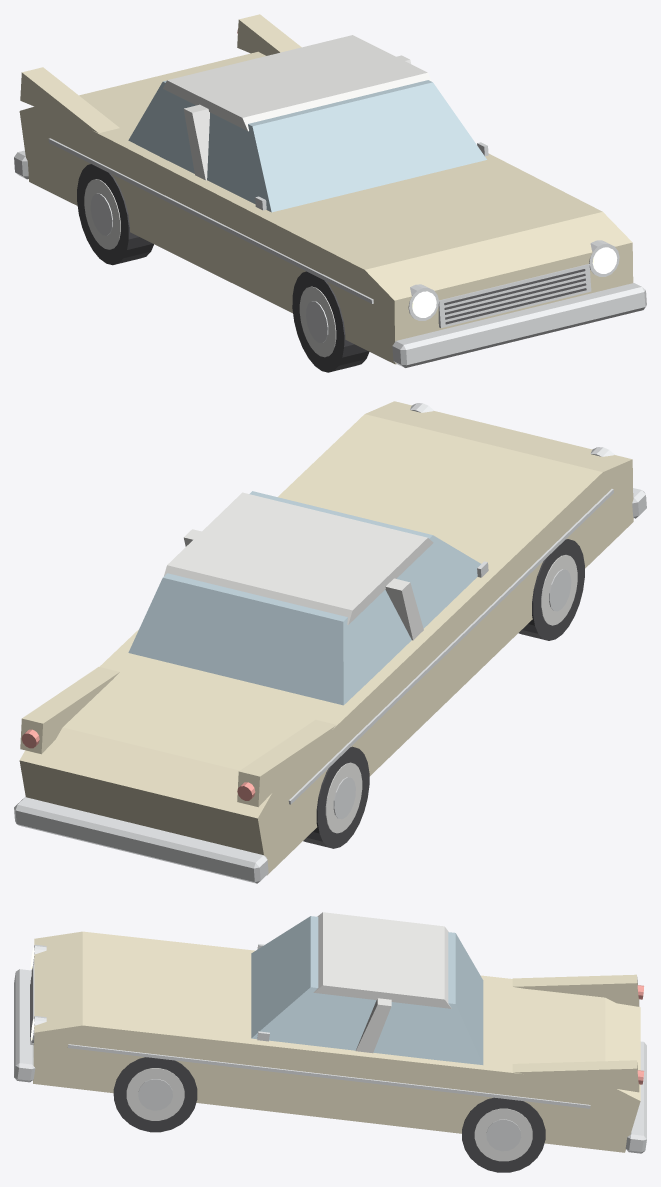
The model's file is car_c.glb.
The picture shows the model from 3 angles, top to bottom: view 1: azimuth 30°, elevation 25°; view 2: azimuth 150°, elevation 25°; view 3: azimuth 270°, elevation 25°; orthographic projection. The views are drawn at different scales.
Parts seen in each view (by area): view 1: car_c_car_c, car_c_glass, car_c_chrome, car_c_car_w, car_c_rubber, car_c_paint_w, car_c_dark, car_c_lamp_glass; view 2: car_c_car_c, car_c_glass, car_c_car_w, car_c_chrome, car_c_rubber, car_c_paint_w; view 3: car_c_car_c, car_c_glass, car_c_car_w, car_c_chrome, car_c_rubber, car_c_paint_w.
Part boxes in pixels (box(x1,y1,x2,y2)): car_c_car_c: box(19, 14, 633, 364); car_c_glass: box(128, 80, 486, 212); car_c_chrome: box(14, 138, 646, 367); car_c_car_w: box(163, 35, 431, 180); car_c_rubber: box(77, 164, 369, 372); car_c_paint_w: box(84, 179, 336, 357); car_c_dark: box(444, 269, 586, 324); car_c_lamp_glass: box(412, 247, 617, 317); car_c_car_c: box(19, 401, 633, 875); car_c_glass: box(128, 491, 480, 705); car_c_car_w: box(164, 492, 433, 640); car_c_chrome: box(14, 403, 646, 883); car_c_rubber: box(303, 539, 584, 848); car_c_paint_w: box(325, 555, 577, 833); car_c_car_c: box(33, 931, 640, 1152); car_c_glass: box(251, 916, 483, 1064); car_c_car_w: box(313, 912, 451, 1053); car_c_chrome: box(14, 944, 646, 1153); car_c_rubber: box(113, 1057, 545, 1172); car_c_paint_w: box(126, 1068, 532, 1161).
Size of the model in its own units: 1.96 by 1.66 by 5.41.
